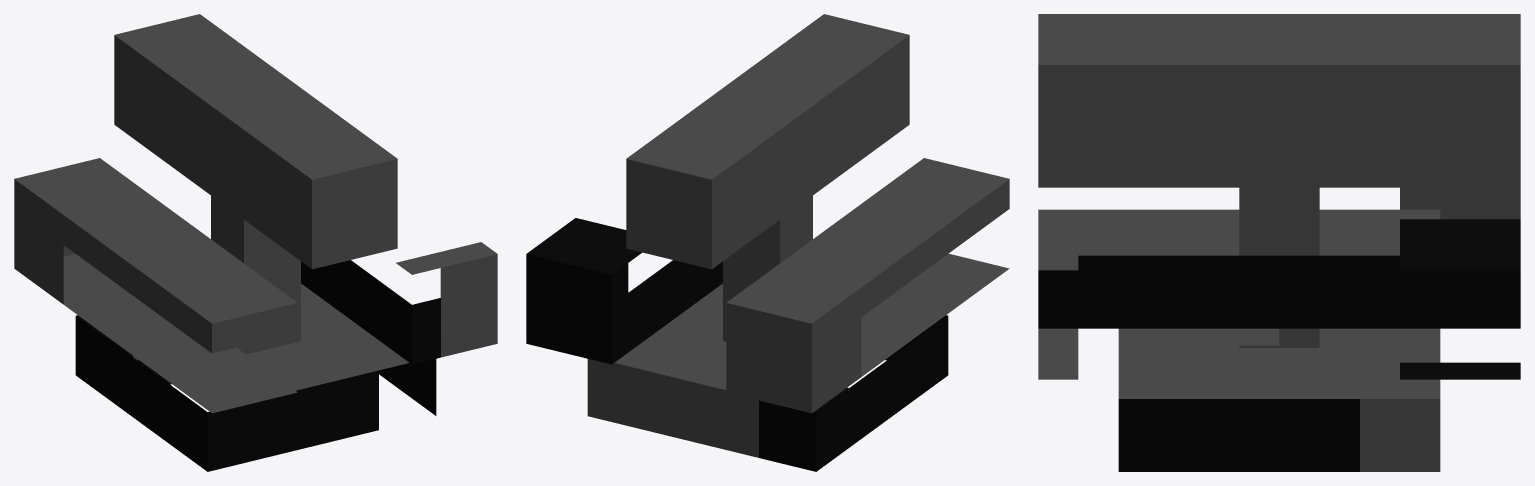
File: heavy_missile_rack.obj
3 views of the same model, side by side, from view 1: azimuth 30°, elevation 25°; view 2: azimuth 150°, elevation 25°; view 3: azimuth 270°, elevation 25° (orthographic). The views are drawn at different scales.
Visible parts, largest first — view 1: cube6, cube4, cube3, cube5, cube, cube1; view 2: cube6, cube4, cube3, cube5, cube, cube1; view 3: cube6, cube5, cube3, cube4, cube, cube1.
Part boxes in pixels (x1=…): cube6: x1=114, y1=14, x2=397, y2=269; cube4: x1=14, y1=158, x2=297, y2=413; cube3: x1=75, y1=283, x2=436, y2=471; cube5: x1=301, y1=242, x2=497, y2=364; cube: x1=211, y1=195, x2=300, y2=354; cube1: x1=301, y1=292, x2=355, y2=340; cube6: x1=626, y1=14, x2=909, y2=269; cube4: x1=726, y1=158, x2=1009, y2=413; cube3: x1=587, y1=292, x2=948, y2=471; cube5: x1=526, y1=218, x2=722, y2=364; cube: x1=723, y1=195, x2=812, y2=341; cube1: x1=683, y1=283, x2=722, y2=324; cube6: x1=1038, y1=14, x2=1520, y2=174; cube5: x1=1038, y1=219, x2=1520, y2=379; cube3: x1=1118, y1=328, x2=1440, y2=471; cube4: x1=1038, y1=174, x2=1520, y2=255; cube: x1=1239, y1=174, x2=1319, y2=347; cube1: x1=1239, y1=328, x2=1279, y2=345.
Size of the model in its own units: 0.625 by 0.625 by 0.75.
